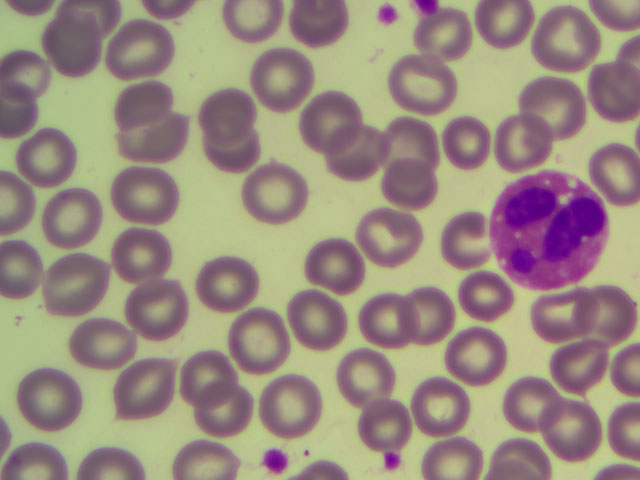Platelets: (370, 1, 409, 28), (261, 445, 291, 474), (378, 449, 404, 470)
RBC: (41, 13, 109, 82), (101, 10, 169, 79), (111, 66, 179, 135), (123, 102, 191, 171), (110, 151, 178, 220), (108, 214, 176, 283), (121, 271, 189, 340), (75, 308, 143, 377), (112, 355, 180, 424), (14, 366, 82, 435), (39, 250, 107, 319), (35, 176, 103, 245), (17, 134, 85, 203), (197, 78, 265, 147), (199, 117, 267, 186), (246, 169, 314, 238), (294, 95, 362, 164), (248, 47, 316, 116), (325, 123, 393, 192), (388, 101, 456, 170), (384, 52, 452, 121), (374, 156, 442, 225), (349, 221, 417, 290), (297, 237, 365, 306), (283, 283, 351, 352), (223, 308, 291, 377), (196, 253, 264, 322), (177, 336, 245, 405), (190, 385, 258, 454), (258, 371, 326, 440), (335, 347, 403, 416), (367, 282, 435, 351), (406, 272, 474, 341), (425, 200, 493, 269), (449, 332, 517, 401), (447, 263, 515, 332), (431, 106, 499, 175), (486, 115, 554, 184), (512, 81, 580, 150), (530, 5, 598, 74), (572, 142, 640, 211), (572, 54, 640, 123), (417, 3, 485, 72), (572, 272, 640, 341), (530, 278, 598, 347), (551, 333, 619, 402), (548, 393, 616, 462), (494, 367, 562, 436), (402, 371, 470, 440), (444, 324, 512, 393), (163, 428, 234, 480), (283, 1, 354, 51)
WBC: (493, 174, 610, 287)
